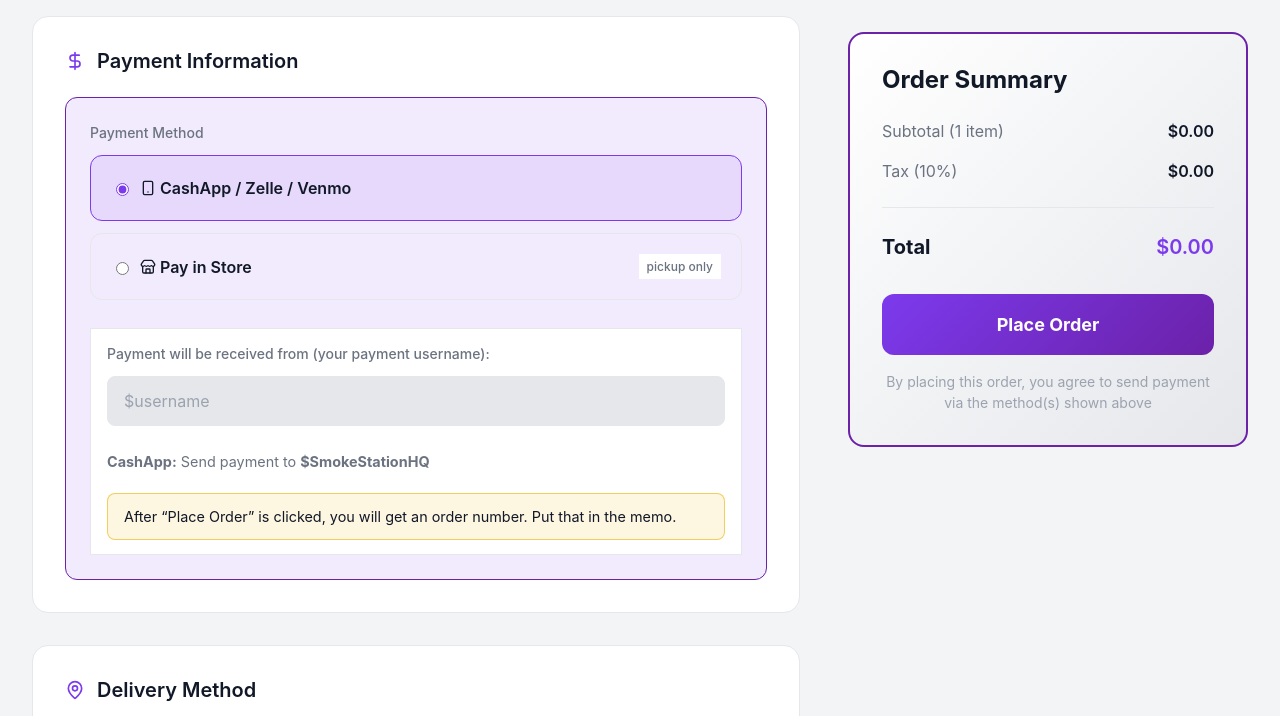
Test: CheckoutPage › validates external payments before submitting when cashapp is enabled
(page scrolled)
Click the button "Place Order": (1048, 324) [882,294,1214,355]
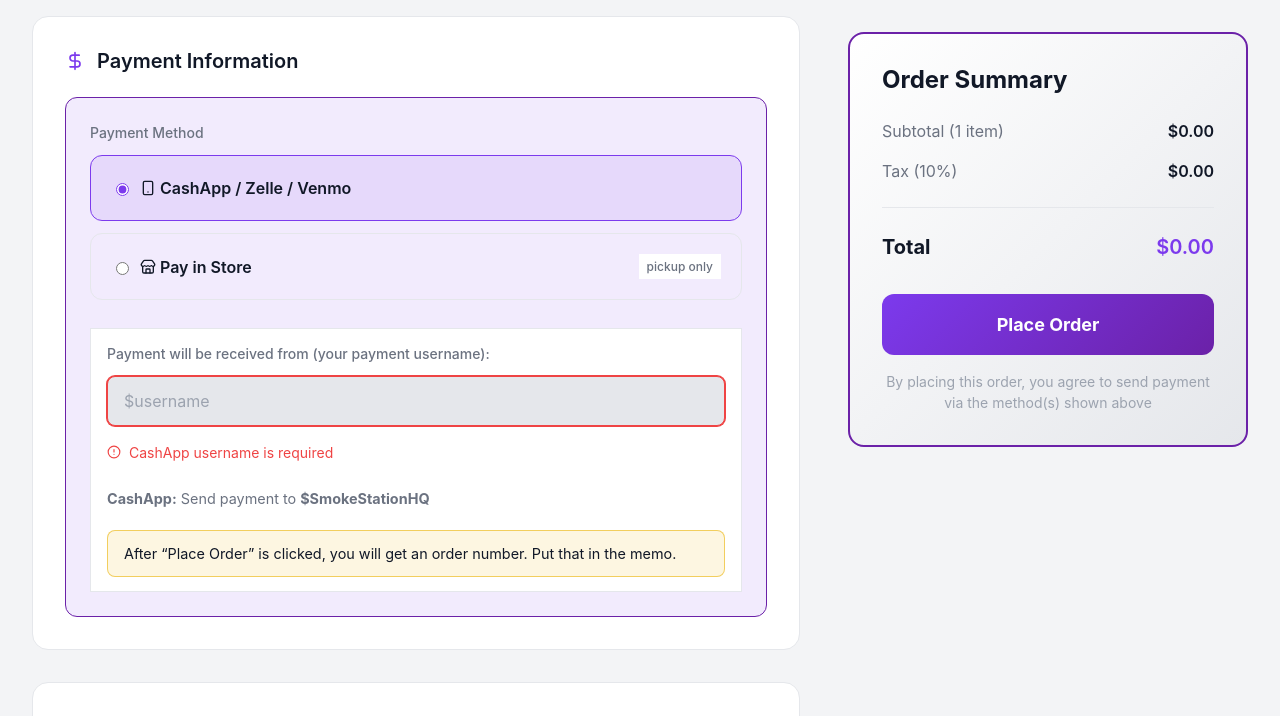
Expected: the text "CashApp username is required" is shown, [107,444,333,461]
